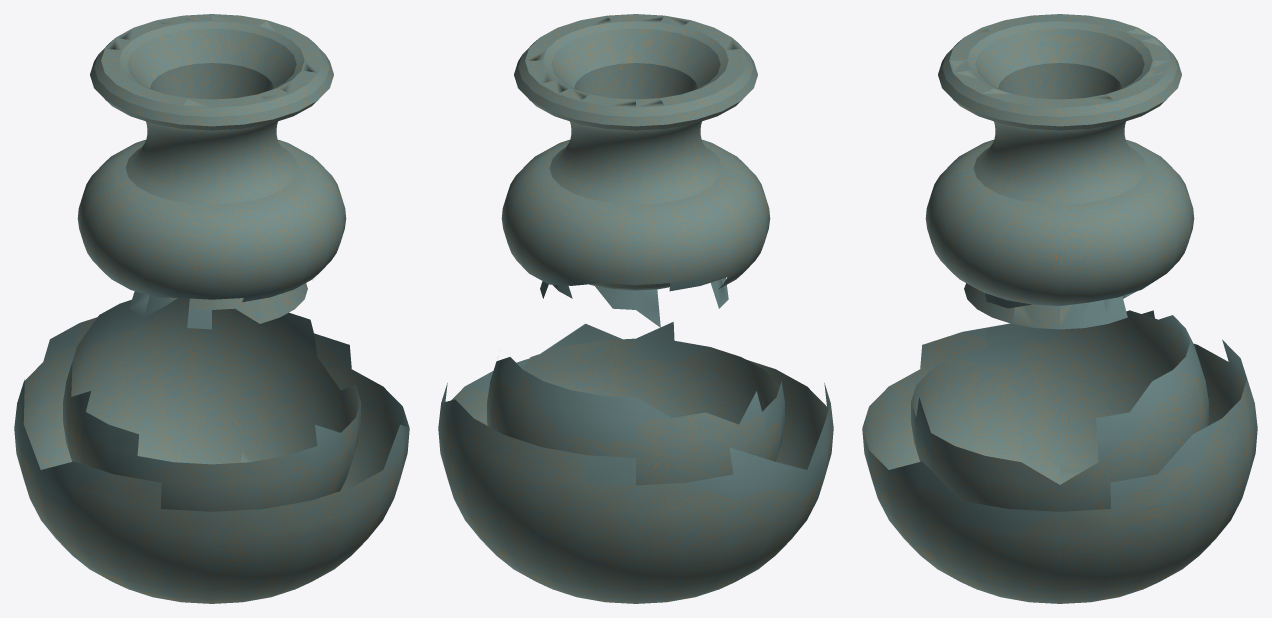
Rendered from vase_violet_broken.dae.
3 views of the same model, side by side, from view 1: azimuth 30°, elevation 25°; view 2: azimuth 150°, elevation 25°; view 3: azimuth 270°, elevation 25° (orthographic).
Visible parts, largest first — view 1: instance_0; view 2: instance_0; view 3: instance_0.
Boxes of the visible parts, x1,y1,x2,y2 form: instance_0: [14, 14, 409, 603]; instance_0: [438, 14, 833, 603]; instance_0: [862, 14, 1257, 603].
Bounding box in the file's own units: 0.2469 × 0.2469 × 0.3473.
